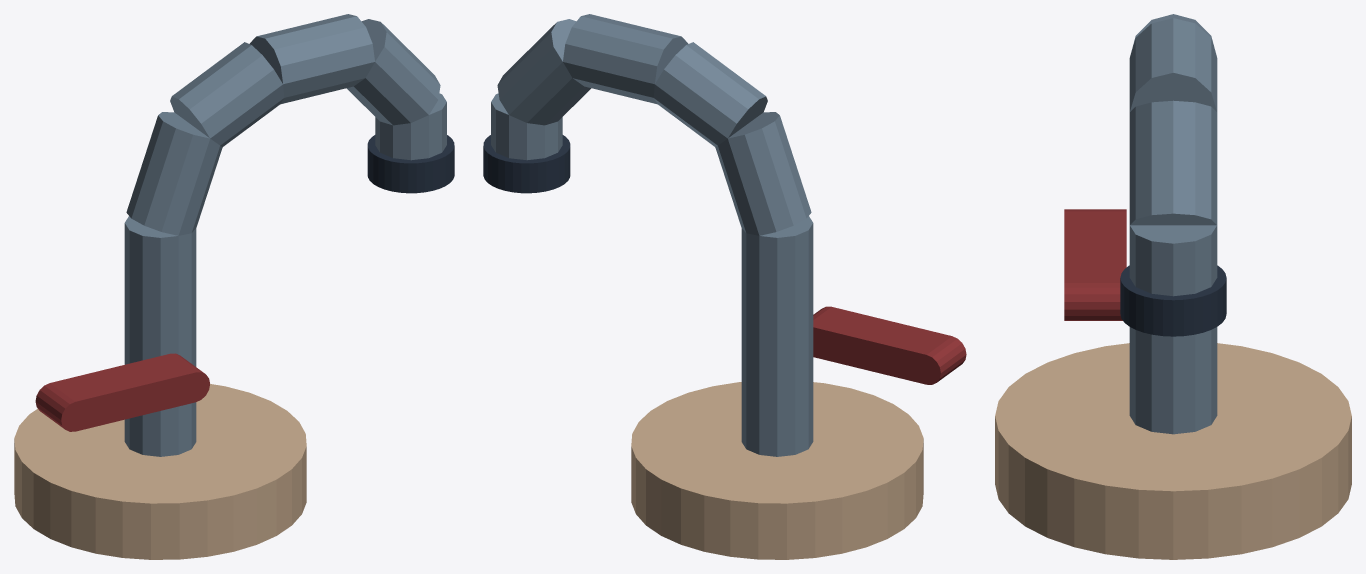
File: faucet.glb
3 renders of one model, left to right at view 1: azimuth 30°, elevation 25°; view 2: azimuth 150°, elevation 25°; view 3: azimuth 270°, elevation 25°, orthographic. The views are drawn at different scales.
Parts seen in each view (by area): view 1: base, pipe0, lever, pipe1, pipe3, pipe2, pipe4, outlet, pipe5; view 2: base, pipe0, lever, pipe1, pipe3, pipe2, pipe4, outlet, pipe5; view 3: base, pipe4, pipe0, pipe3, lever, pipe5, outlet.
Boxes of the visible parts, x1=… form: base: x1=14, y1=384, x2=306, y2=559; pipe0: x1=124, y1=216, x2=196, y2=456; lever: x1=35, y1=353, x2=209, y2=431; pipe1: x1=126, y1=112, x2=222, y2=235; pipe3: x1=249, y1=14, x2=374, y2=104; pipe2: x1=170, y1=42, x2=284, y2=146; pipe4: x1=347, y1=19, x2=440, y2=125; outlet: x1=367, y1=135, x2=454, y2=193; pipe5: x1=375, y1=93, x2=446, y2=160; base: x1=631, y1=382, x2=923, y2=559; pipe0: x1=741, y1=216, x2=813, y2=456; lever: x1=813, y1=306, x2=966, y2=384; pipe1: x1=715, y1=112, x2=811, y2=235; pipe3: x1=563, y1=14, x2=688, y2=104; pipe2: x1=653, y1=42, x2=767, y2=146; pipe4: x1=497, y1=19, x2=590, y2=125; outlet: x1=483, y1=135, x2=570, y2=193; pipe5: x1=491, y1=93, x2=562, y2=160; base: x1=995, y1=343, x2=1351, y2=559; pipe4: x1=1129, y1=100, x2=1217, y2=225; pipe0: x1=1129, y1=327, x2=1217, y2=434; pipe3: x1=1129, y1=18, x2=1217, y2=111; lever: x1=1064, y1=209, x2=1126, y2=320; pipe5: x1=1129, y1=225, x2=1217, y2=296; outlet: x1=1120, y1=265, x2=1226, y2=336.
Size of the model in its own units: 1.36 by 1.31 by 0.8.
